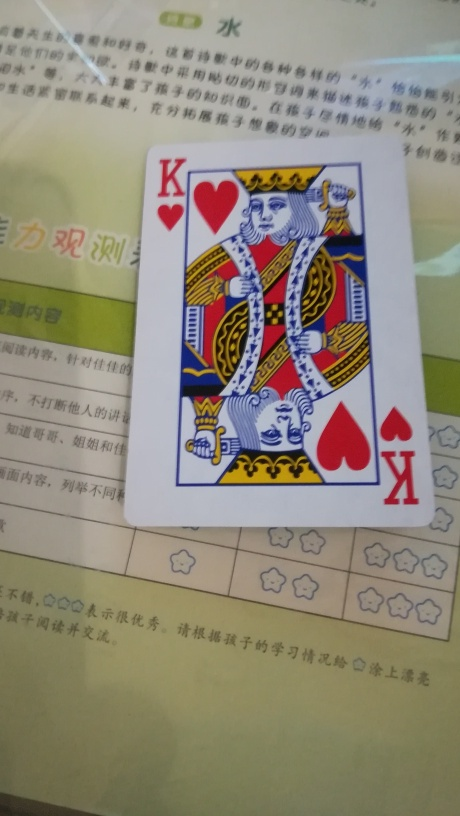hx k: (123, 122, 449, 532)
